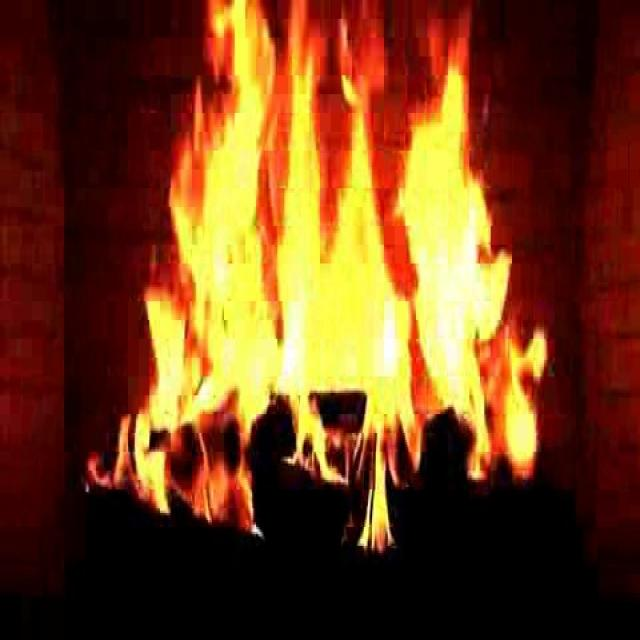Fire: (80, 19, 558, 570)
